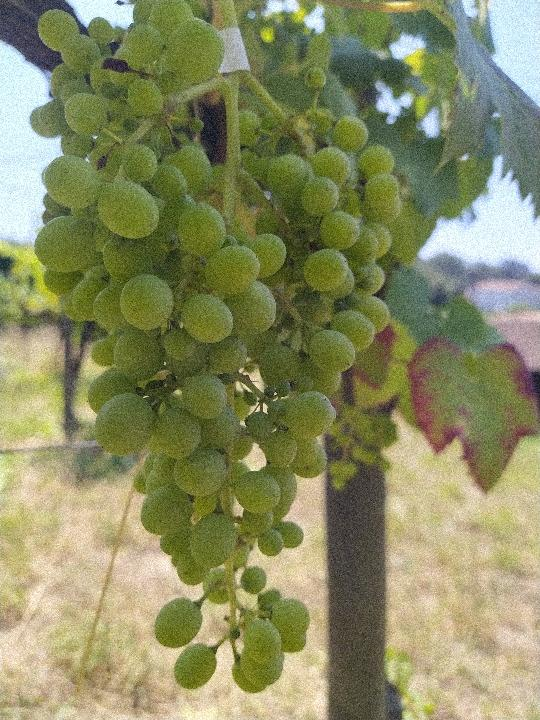grape: (28, 4, 404, 698)
